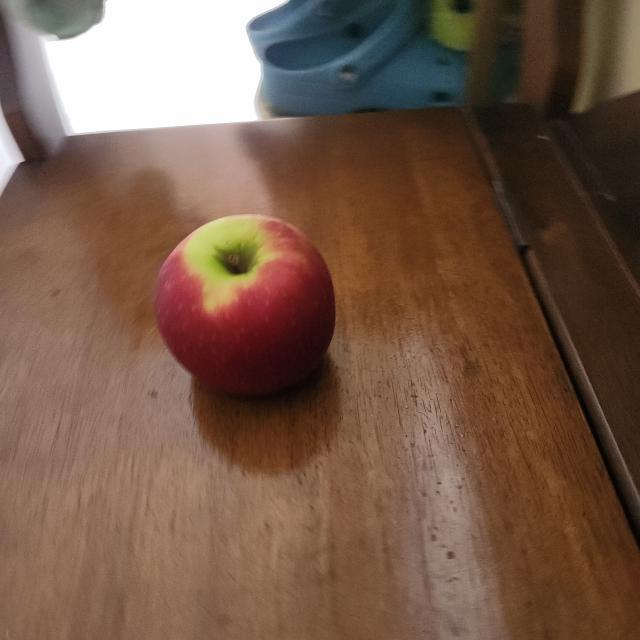apple: (146, 212, 344, 408)
